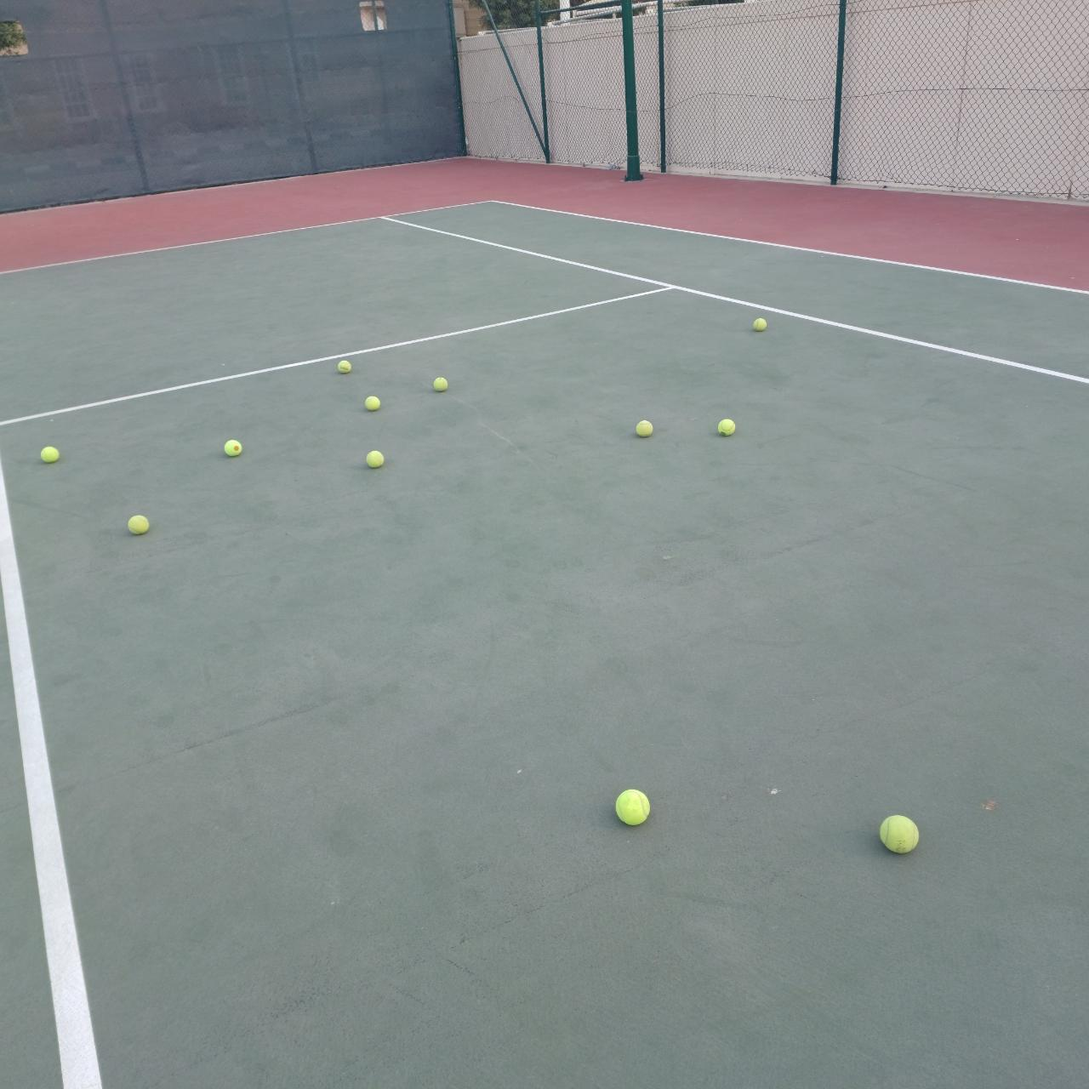tennis-ball: (878, 812, 920, 854), (613, 785, 651, 826), (125, 513, 149, 534), (39, 443, 60, 463), (364, 448, 384, 468), (222, 437, 242, 457), (716, 417, 736, 436), (634, 418, 653, 437), (431, 374, 448, 391), (363, 393, 379, 411), (751, 315, 767, 331), (336, 357, 351, 373)
